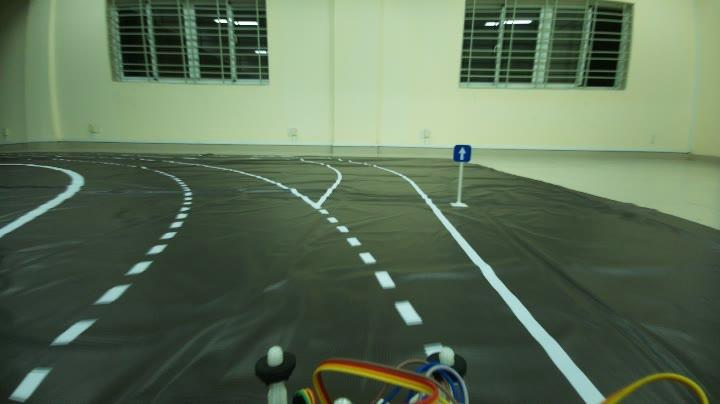onewayroad: (449, 142, 475, 166)
